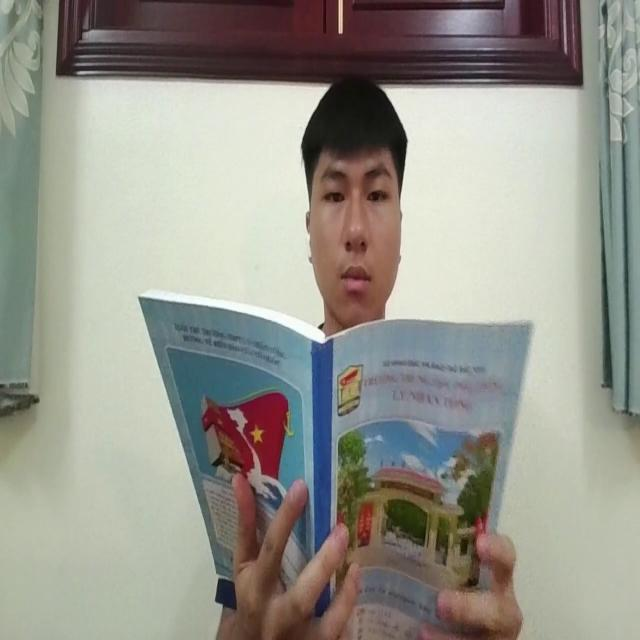book: (130, 281, 532, 640)
student: (300, 70, 405, 320)
